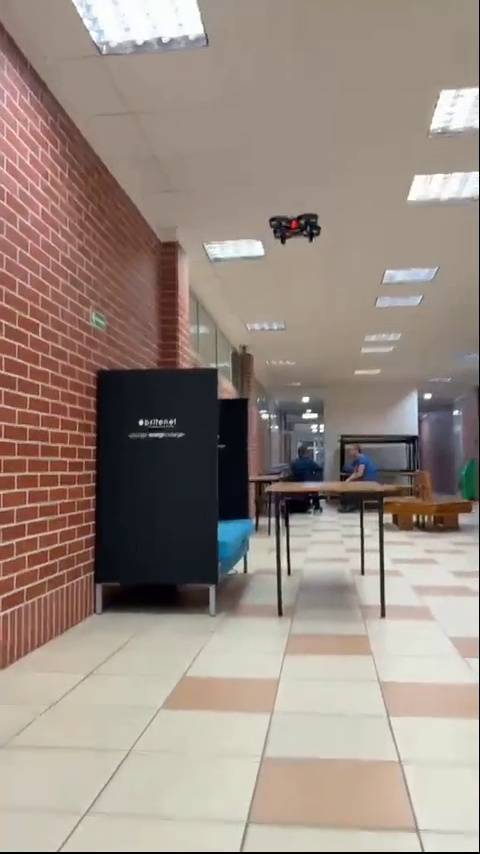drone: (266, 212, 325, 240)
no vest: (280, 442, 324, 481), (343, 439, 379, 485)
